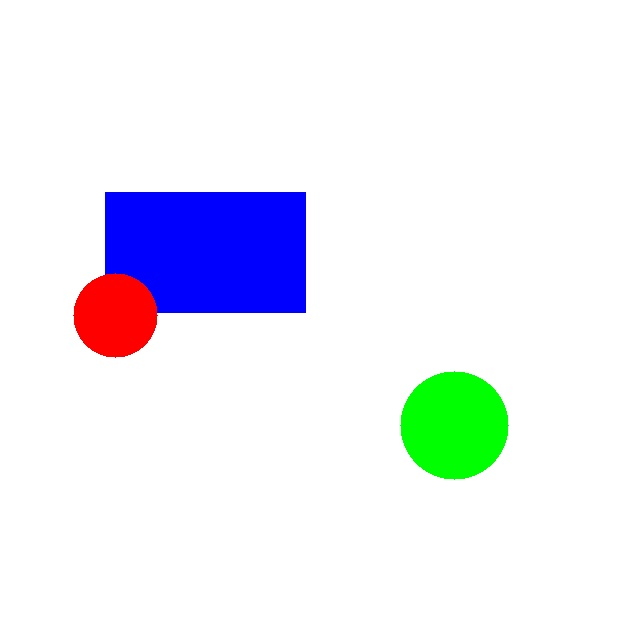cartao: (105, 192, 305, 312)
rosca_externa: (400, 371, 508, 479)
rosca_interna: (73, 273, 157, 357)
